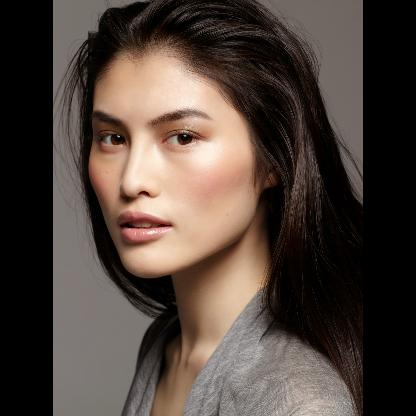Female: (88, 50, 280, 276)
